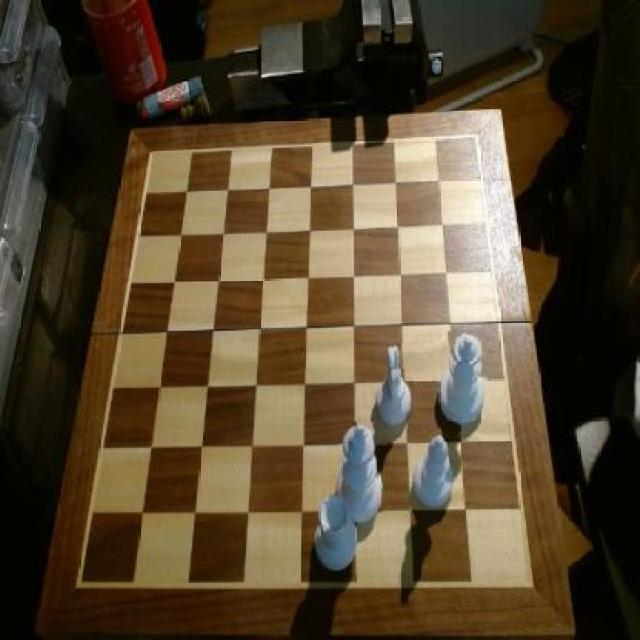black-rook: (414, 431, 454, 513)
white-bishop: (337, 422, 386, 526)
white-king: (374, 344, 414, 432)
white-pawn: (437, 330, 489, 432)
white-queen: (314, 491, 360, 574)
